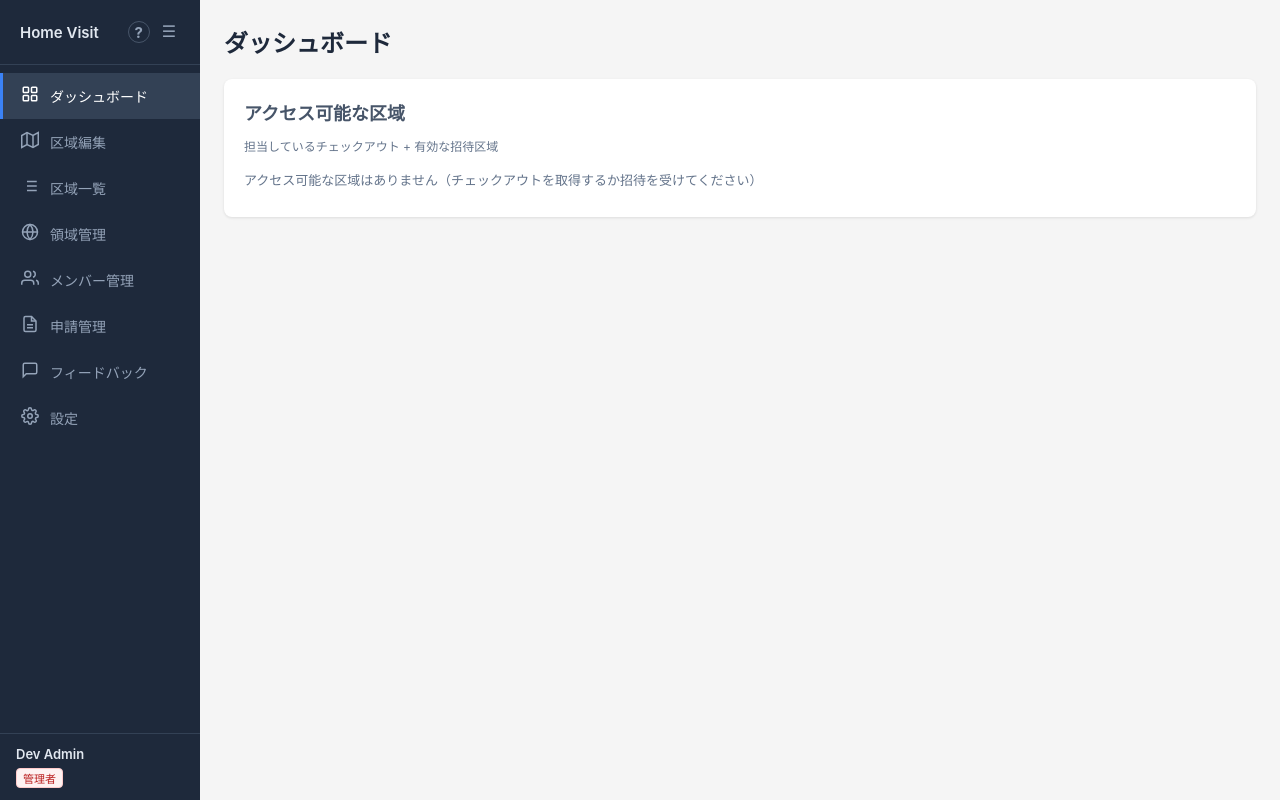
Test: App › 設定画面でロケールを英語に切替できる
Click the link "設定": (50, 417) [21,407,78,427]
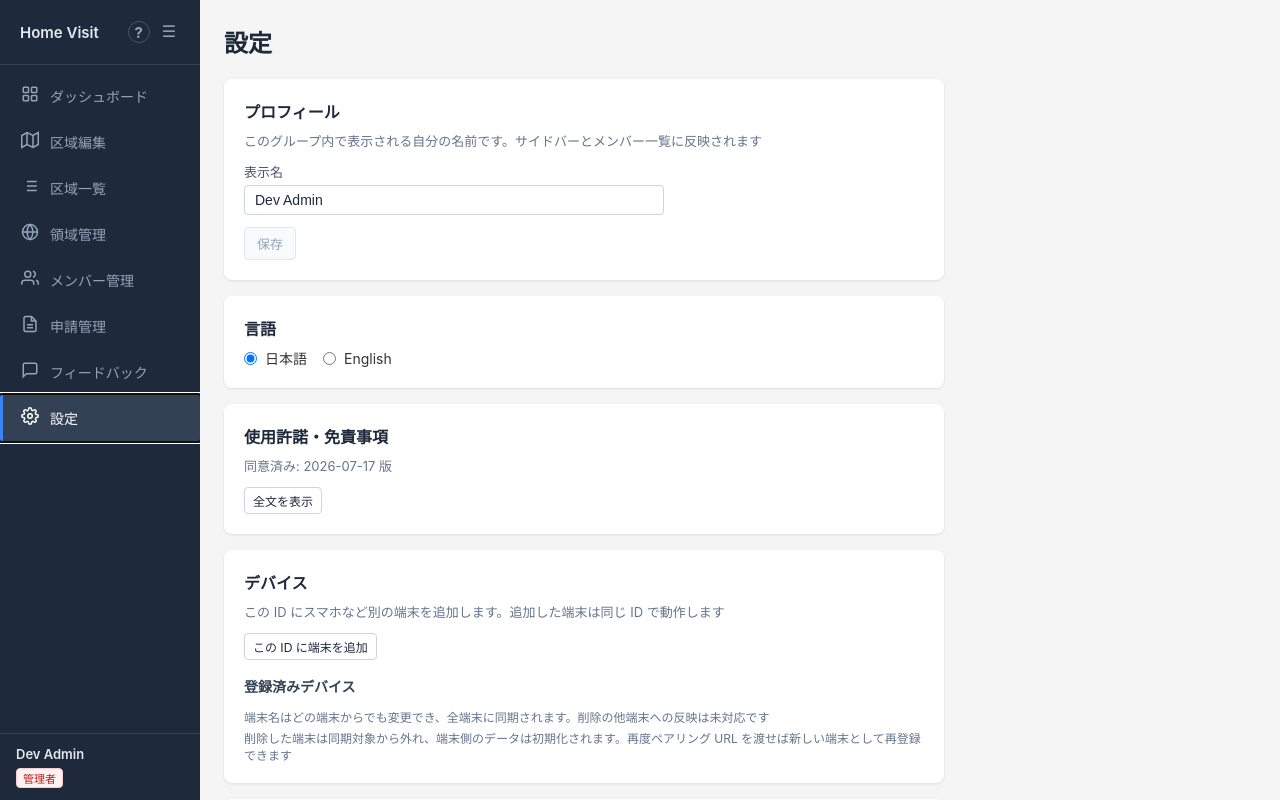
Click the radio button labelled "English": (330, 358) [323,352,336,364]
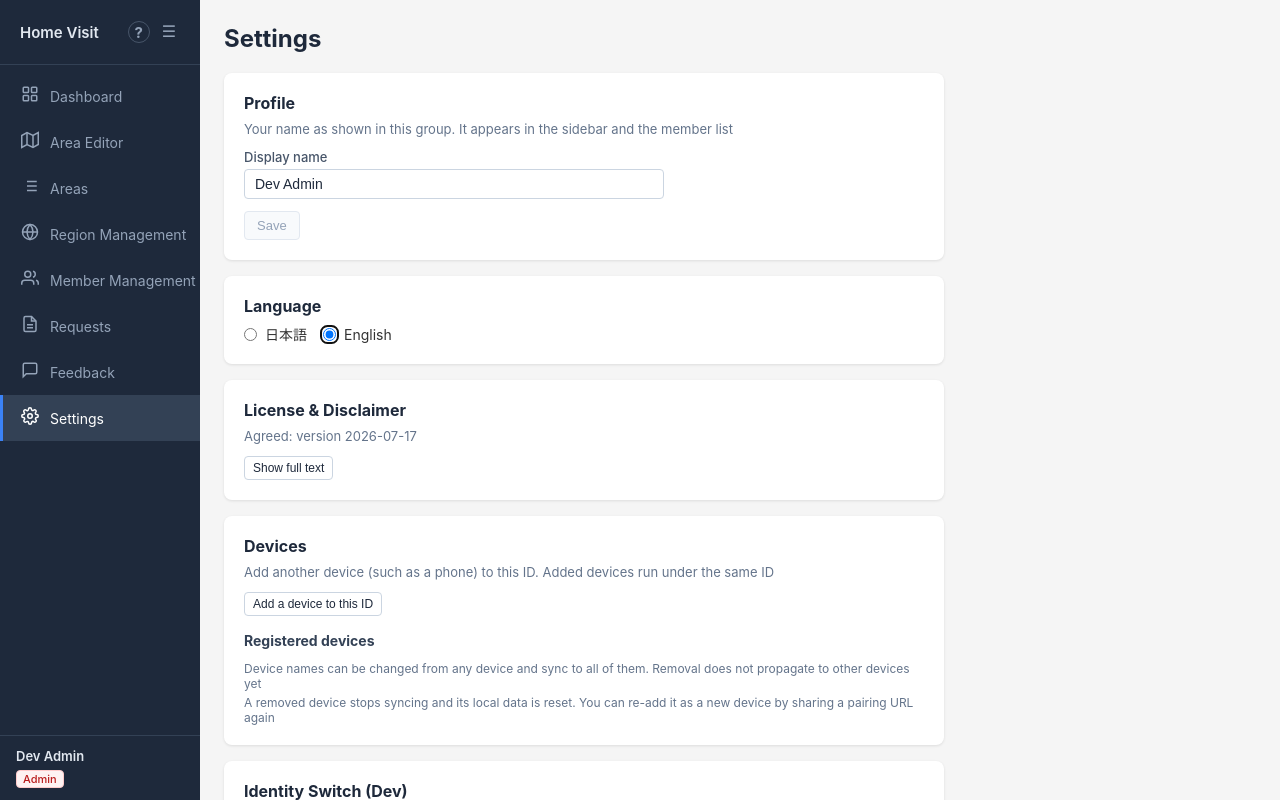
Check: the heading "Settings" is shown, box [224,24,321,53]
